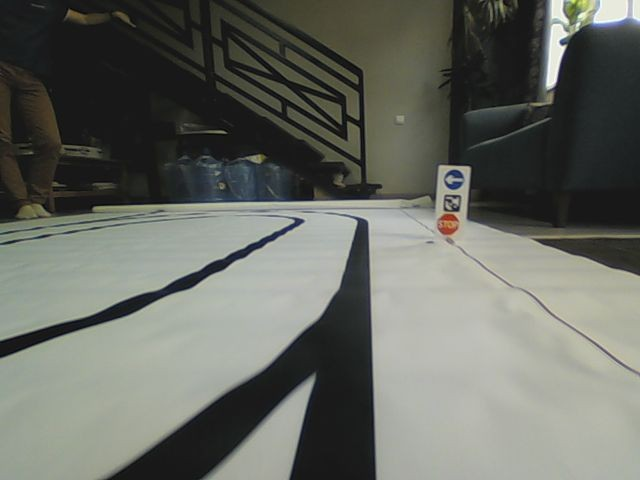Stop: (436, 213, 463, 236)
